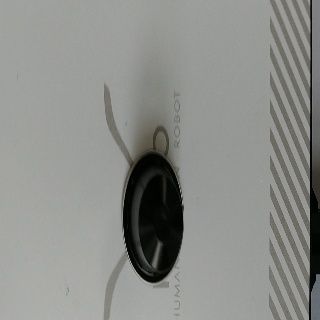capsule_10: (121, 149, 185, 286)
